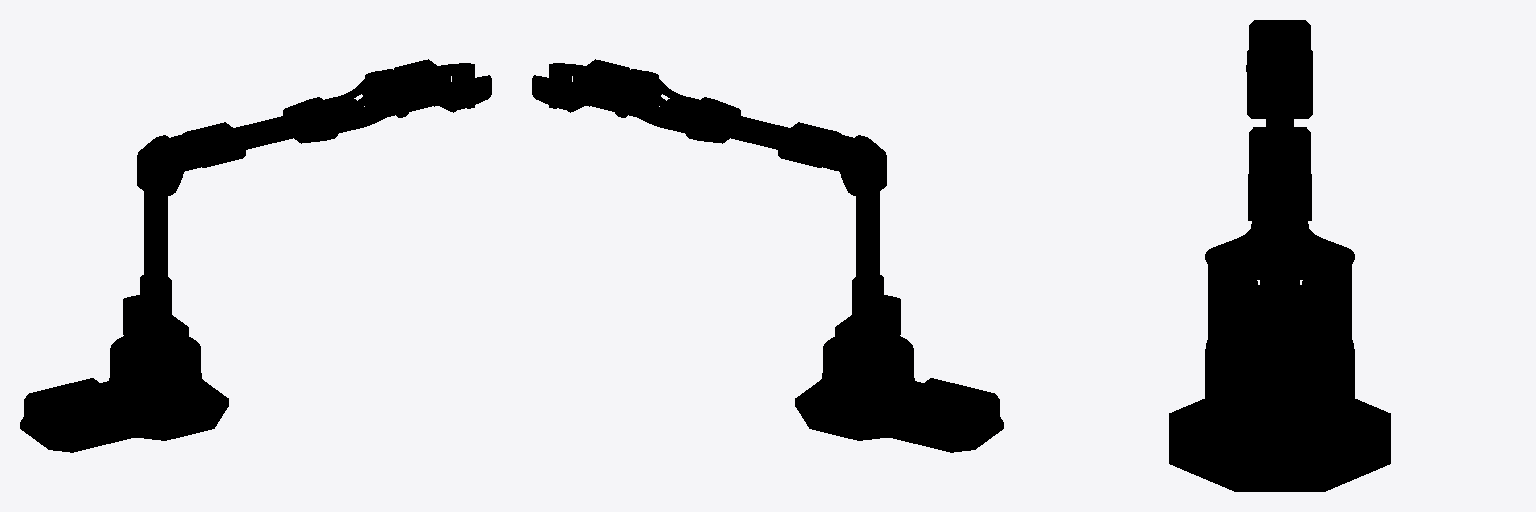
The robot description file, URDF, robot "wx200":
<?xml version="1.0" ?>
<!-- =================================================================================== -->
<!-- |    This document was autogenerated by xacro from wx200.urdf.xacro               | -->
<!-- |    EDITING THIS FILE BY HAND IS NOT RECOMMENDED                                 | -->
<!-- =================================================================================== -->
<robot name="wx200" xmlns:xacro="http://www.ros.org/wiki/xacro">
  <material name="interbotix_black">
    <color rgba="0.0 0.0 0.0 1.0"/>
    <!-- <texture filename="wx200/meshes/interbotix_black.png"/> -->
  </material>
  <link name="wx200/base_link">
    <visual>
      <origin rpy="0 0 1.5707963267948966" xyz="0 0 0"/>
      <geometry>
        <mesh filename="wx200/meshes/wx200_1_base.obj" scale="0.001 0.001 0.001"/>
      </geometry>
      <material name="interbotix_black"/>
    </visual>
    <collision>
      <origin rpy="0 0 1.5707963267948966" xyz="0 0 0"/>
      <geometry>
        <mesh filename="wx200/meshes/wx200_1_base.obj" scale="0.001 0.001 0.001"/>
      </geometry>
    </collision>
    <inertial>
      <origin rpy="0 0 1.5707963267948966" xyz="-0.0381747000 0.0006478630 0.0193458000"/>
      <mass value="0.540142"/>
      <inertia ixx="0.0021190000" ixy="-0.0000172100" ixz="0.0000006389" iyy="0.0006925000" iyz="0.0000461200" izz="0.0025280000"/>
    </inertial>
  </link>
  <joint name="waist" type="revolute">
    <axis xyz="0 0 1"/>
    <limit effort="8" lower="-3.141582653589793" upper="3.141582653589793" velocity="3.141592653589793"/>
    <origin rpy="0 0 0" xyz="0 0 0.072"/>
    <parent link="wx200/base_link"/>
    <child link="wx200/shoulder_link"/>
    <dynamics friction="0.1"/>
  </joint>
  <transmission name="trans_waist">
    <type>transmission_interface/SimpleTransmission</type>
    <joint name="waist">
      <hardwareInterface>hardware_interface/EffortJointInterface</hardwareInterface>
    </joint>
    <actuator name="waist_motor">
      <mechanicalReduction>1</mechanicalReduction>
    </actuator>
  </transmission>
  <link name="wx200/shoulder_link">
    <visual>
      <origin rpy="0 0 1.5707963267948966" xyz="0 0 -0.003"/>
      <geometry>
        <mesh filename="wx200/meshes/wx200_2_shoulder.obj" scale="0.001 0.001 0.001"/>
      </geometry>
      <material name="interbotix_black"/>
    </visual>
    <collision>
      <origin rpy="0 0 1.5707963267948966" xyz="0 0 -0.003"/>
      <geometry>
        <mesh filename="wx200/meshes/wx200_2_shoulder.obj" scale="0.001 0.001 0.001"/>
      </geometry>
    </collision>
    <inertial>
      <origin rpy="0 0 1.5707963267948966" xyz="0.0000223210 0.0000414608 0.0066287000"/>
      <mass value="0.480879"/>
      <inertia ixx="0.0003790000" ixy="0.0000000022" ixz="-0.0000003561" iyy="0.0005557000" iyz="0.0000012247" izz="0.0005889000"/>
    </inertial>
  </link>
  <joint name="shoulder" type="revolute">
    <axis xyz="0 1 0"/>
    <limit effort="18" lower="-1.8849555921538759" upper="1.9722220547535925" velocity="3.141592653589793"/>
    <origin rpy="0 0 0" xyz="0 0 0.03865"/>
    <parent link="wx200/shoulder_link"/>
    <child link="wx200/upper_arm_link"/>
    <dynamics friction="0.1"/>
  </joint>
  <transmission name="trans_shoulder">
    <type>transmission_interface/SimpleTransmission</type>
    <joint name="shoulder">
      <hardwareInterface>hardware_interface/EffortJointInterface</hardwareInterface>
    </joint>
    <actuator name="shoulder_motor">
      <mechanicalReduction>1</mechanicalReduction>
    </actuator>
  </transmission>
  <link name="wx200/upper_arm_link">
    <visual>
      <origin rpy="0 0 1.5707963267948966" xyz="0 0 0"/>
      <geometry>
        <mesh filename="wx200/meshes/wx200_3_upper_arm.obj" scale="0.001 0.001 0.001"/>
      </geometry>
      <material name="interbotix_black"/>
    </visual>
    <collision>
      <origin rpy="0 0 1.5707963267948966" xyz="0 0 0"/>
      <geometry>
        <mesh filename="wx200/meshes/wx200_3_upper_arm.obj" scale="0.001 0.001 0.001"/>
      </geometry>
    </collision>
    <inertial>
      <origin rpy="0 0 1.5707963267948966" xyz="0.0119707000 -0.0001179264 0.1394290000"/>
      <mass value="0.297781"/>
      <inertia ixx="0.0017100000" ixy="-0.0000011433" ixz="0.0000021161" iyy="0.0016310000" iyz="0.0002135000" izz="0.0001482000"/>
    </inertial>
  </link>
  <joint name="elbow" type="revolute">
    <axis xyz="0 1 0"/>
    <limit effort="13" lower="-1.8849555921538759" upper="1.6231562043547265" velocity="3.141592653589793"/>
    <origin rpy="0 0 0" xyz="0.05 0 0.2"/>
    <parent link="wx200/upper_arm_link"/>
    <child link="wx200/forearm_link"/>
    <dynamics friction="0.1"/>
  </joint>
  <transmission name="trans_elbow">
    <type>transmission_interface/SimpleTransmission</type>
    <joint name="elbow">
      <hardwareInterface>hardware_interface/EffortJointInterface</hardwareInterface>
    </joint>
    <actuator name="elbow_motor">
      <mechanicalReduction>1</mechanicalReduction>
    </actuator>
  </transmission>
  <link name="wx200/forearm_link">
    <visual>
      <origin rpy="0 0 1.5707963267948966" xyz="0 0 0"/>
      <geometry>
        <mesh filename="wx200/meshes/wx200_4_forearm.obj" scale="0.001 0.001 0.001"/>
      </geometry>
      <material name="interbotix_black"/>
    </visual>
    <collision>
      <origin rpy="0 0 1.5707963267948966" xyz="0 0 0"/>
      <geometry>
        <mesh filename="wx200/meshes/wx200_4_forearm.obj" scale="0.001 0.001 0.001"/>
      </geometry>
    </collision>
    <inertial>
      <origin rpy="0 0 1.5707963267948966" xyz="0.1211920000 -0.0001238123 0.0000000000"/>
      <mass value="0.283651"/>
      <inertia ixx="0.0011850000" ixy="-0.0000024317" ixz="0.0000000000" iyy="0.0000682900" iyz="0.0000000000" izz="0.0012060000"/>
    </inertial>
  </link>
  <joint name="wrist_angle" type="revolute">
    <axis xyz="0 1 0"/>
    <limit effort="5" lower="-1.7453292519943295" upper="2.1467549799530254" velocity="3.141592653589793"/>
    <origin rpy="0 0 0" xyz="0.2 0 0"/>
    <parent link="wx200/forearm_link"/>
    <child link="wx200/wrist_link"/>
    <dynamics friction="0.1"/>
  </joint>
  <transmission name="trans_wrist_angle">
    <type>transmission_interface/SimpleTransmission</type>
    <joint name="wrist_angle">
      <hardwareInterface>hardware_interface/EffortJointInterface</hardwareInterface>
    </joint>
    <actuator name="wrist_angle_motor">
      <mechanicalReduction>1</mechanicalReduction>
    </actuator>
  </transmission>
  <link name="wx200/wrist_link">
    <visual>
      <origin rpy="0 0 1.5707963267948966" xyz="0 0 0"/>
      <geometry>
        <mesh filename="wx200/meshes/wx200_5_wrist.obj" scale="0.001 0.001 0.001"/>
      </geometry>
      <material name="interbotix_black"/>
    </visual>
    <collision>
      <origin rpy="0 0 1.5707963267948966" xyz="0 0 0"/>
      <geometry>
        <mesh filename="wx200/meshes/wx200_5_wrist.obj" scale="0.001 0.001 0.001"/>
      </geometry>
    </collision>
    <inertial>
      <origin rpy="0 0 1.5707963267948966" xyz="0.0423600000 -0.0000106630 0.0105770000"/>
      <mass value="0.084957"/>
      <inertia ixx="0.0000308200" ixy="0.0000000191" ixz="0.0000000023" iyy="0.0000282200" iyz="0.0000025481" izz="0.0000315200"/>
    </inertial>
  </link>
  <joint name="wrist_rotate" type="revolute">
    <axis xyz="1 0 0"/>
    <limit effort="1" lower="-3.141582653589793" upper="3.141582653589793" velocity="3.141592653589793"/>
    <origin rpy="0 0 0" xyz="0.065 0 0"/>
    <parent link="wx200/wrist_link"/>
    <child link="wx200/gripper_link"/>
    <dynamics friction="0.1"/>
  </joint>
  <transmission name="trans_wrist_rotate">
    <type>transmission_interface/SimpleTransmission</type>
    <joint name="wrist_rotate">
      <hardwareInterface>hardware_interface/EffortJointInterface</hardwareInterface>
    </joint>
    <actuator name="wrist_rotate_motor">
      <mechanicalReduction>1</mechanicalReduction>
    </actuator>
  </transmission>
  <link name="wx200/gripper_link">
    <visual>
      <origin rpy="0 0 1.5707963267948966" xyz="-0.02 0 0"/>
      <geometry>
        <mesh filename="wx200/meshes/wx200_6_gripper.obj" scale="0.001 0.001 0.001"/>
      </geometry>
      <material name="interbotix_black"/>
    </visual>
    <collision>
      <origin rpy="0 0 1.5707963267948966" xyz="-0.02 0 0"/>
      <geometry>
        <mesh filename="wx200/meshes/wx200_6_gripper.obj" scale="0.001 0.001 0.001"/>
      </geometry>
    </collision>
    <inertial>
      <origin rpy="0 0 1.5707963267948966" xyz="0.0216310000 0.0000002516 0.0114100000"/>
      <mass value="0.072885"/>
      <inertia ixx="0.0000253700" ixy="0.0000000000" ixz="0.0000000000" iyy="0.0000183600" iyz="0.0000004340" izz="0.0000167400"/>
    </inertial>
  </link>
  <joint name="ee_arm" type="fixed">
    <axis xyz="1 0 0"/>
    <origin rpy="0 0 0" xyz="0.043 0 0"/>
    <parent link="wx200/gripper_link"/>
    <child link="wx200/ee_arm_link"/>
  </joint>
  <link name="wx200/ee_arm_link">
    <inertial>
      <mass value="0.001"/>
      <inertia ixx="0.001" ixy="0" ixz="0" iyy="0.001" iyz="0" izz="0.001"/>
    </inertial>
  </link>
  <joint name="gripper" type="continuous">
    <axis xyz="1 0 0"/>
    <limit effort="1" velocity="3.141592653589793"/>
    <origin rpy="0 0 0" xyz="0.0055 0 0"/>
    <parent link="wx200/ee_arm_link"/>
    <child link="wx200/gripper_prop_link"/>
    <dynamics friction="0.1"/>
  </joint>
  <transmission name="trans_gripper">
    <type>transmission_interface/SimpleTransmission</type>
    <joint name="gripper">
      <hardwareInterface>hardware_interface/EffortJointInterface</hardwareInterface>
    </joint>
    <actuator name="gripper_motor">
      <mechanicalReduction>1</mechanicalReduction>
    </actuator>
  </transmission>
  <link name="wx200/gripper_prop_link">
    <visual>
      <origin rpy="0 0 1.5707963267948966" xyz="-0.0685 0 0"/>
      <geometry>
        <mesh filename="wx200/meshes/wx200_7_gripper_prop.obj" scale="0.001 0.001 0.001"/>
      </geometry>
      <material name="interbotix_black"/>
    </visual>
    <collision>
      <origin rpy="0 0 1.5707963267948966" xyz="-0.0685 0 0"/>
      <geometry>
        <mesh filename="wx200/meshes/wx200_7_gripper_prop.obj" scale="0.001 0.001 0.001"/>
      </geometry>
    </collision>
    <inertial>
      <origin rpy="0 0 1.5707963267948966" xyz="0.0008460000 -0.0000016817 0.0000420000"/>
      <mass value="0.00434"/>
      <inertia ixx="0.0000005923" ixy="0.0000000000" ixz="0.0000003195" iyy="0.0000011156" iyz="-0.0000000004" izz="0.0000005743"/>
    </inertial>
  </link>
  <!-- If the AR tag is being used, then add the AR tag mount -->
  <!-- If the gripper bar is being used, then also add the gripper bar -->
  <joint name="gripper_bar" type="fixed">
    <axis xyz="1 0 0"/>
    <origin rpy="0 0 0" xyz="0 0 0"/>
    <parent link="wx200/ee_arm_link"/>
    <child link="wx200/gripper_bar_link"/>
  </joint>
  <link name="wx200/gripper_bar_link">
    <visual>
      <origin rpy="0 0 1.5707963267948966" xyz="-0.063 0 0"/>
      <geometry>
        <mesh filename="wx200/meshes/wx200_8_gripper_bar.obj" scale="0.001 0.001 0.001"/>
      </geometry>
      <material name="interbotix_black"/>
    </visual>
    <collision>
      <origin rpy="0 0 1.5707963267948966" xyz="-0.063 0 0"/>
      <geometry>
        <mesh filename="wx200/meshes/wx200_8_gripper_bar.obj" scale="0.001 0.001 0.001"/>
      </geometry>
    </collision>
    <inertial>
      <origin rpy="0 0 1.5707963267948966" xyz="0.0096870000 0.0000008177 0.0049620000"/>
      <mass value="0.034199"/>
      <inertia ixx="0.0000074125" ixy="-0.0000000008" ixz="-0.0000000006" iyy="0.0000284300" iyz="-0.0000013889" izz="0.0000286000"/>
    </inertial>
  </link>
  <joint name="ee_bar" type="fixed">
    <axis xyz="1 0 0"/>
    <origin rpy="0 0 0" xyz="0.023 0 0"/>
    <parent link="wx200/gripper_bar_link"/>
    <child link="wx200/fingers_link"/>
  </joint>
  <link name="wx200/fingers_link">
    <inertial>
      <mass value="0.001"/>
      <inertia ixx="0.001" ixy="0" ixz="0" iyy="0.001" iyz="0" izz="0.001"/>
    </inertial>
  </link>
  <!-- If the gripper fingers are being used, add those as well -->
  <joint name="left_finger" type="prismatic">
    <axis xyz="0 1 0"/>
    <limit effort="5" lower="0.015" upper="0.037" velocity="1"/>
    <origin rpy="0 0 0" xyz="0 0 0"/>
    <parent link="wx200/fingers_link"/>
    <child link="wx200/left_finger_link"/>
    <dynamics friction="0.1"/>
  </joint>
  <transmission name="trans_left_finger">
    <type>transmission_interface/SimpleTransmission</type>
    <joint name="left_finger">
      <hardwareInterface>hardware_interface/EffortJointInterface</hardwareInterface>
    </joint>
    <actuator name="left_finger_motor">
      <mechanicalReduction>1</mechanicalReduction>
    </actuator>
  </transmission>
  <link name="wx200/left_finger_link">
    <visual>
      <origin rpy="3.141592653589793 3.141592653589793 0" xyz="0 0.005 0"/>
      <geometry>
        <mesh filename="wx200/meshes/wx200_9_gripper_finger.obj" scale="0.001 0.001 0.001"/>
      </geometry>
      <material name="interbotix_black"/>
    </visual>
    <collision>
      <origin rpy="3.141592653589793 3.141592653589793 0" xyz="0 0.005 0"/>
      <geometry>
        <mesh filename="wx200/meshes/wx200_9_gripper_finger.obj" scale="0.001 0.001 0.001"/>
      </geometry>
    </collision>
    <inertial>
      <origin rpy="3.141592653589793 3.141592653589793 1.5707963267948966" xyz="0.0138160000 0.0000000000 0.0000000000"/>
      <mass value="0.016246"/>
      <inertia ixx="0.0000047310" ixy="-0.0000004560" ixz="0.0000000000" iyy="0.0000015506" iyz="0.0000000000" izz="0.0000037467"/>
    </inertial>
  </link>
  <joint name="right_finger" type="prismatic">
    <axis xyz="0 1 0"/>
    <limit effort="5" lower="-0.037" upper="-0.015" velocity="1"/>
    <origin rpy="0 0 0" xyz="0 0 0"/>
    <parent link="wx200/fingers_link"/>
    <child link="wx200/right_finger_link"/>
    <dynamics friction="0.1"/>
    <mimic joint="left_finger" multiplier="-1" offset="0"/>
  </joint>
  <transmission name="trans_right_finger">
    <type>transmission_interface/SimpleTransmission</type>
    <joint name="right_finger">
      <hardwareInterface>hardware_interface/EffortJointInterface</hardwareInterface>
    </joint>
    <actuator name="right_finger_motor">
      <mechanicalReduction>1</mechanicalReduction>
    </actuator>
  </transmission>
  <link name="wx200/right_finger_link">
    <visual>
      <origin rpy="0 3.141592653589793 0" xyz="0 -0.005 0"/>
      <geometry>
        <mesh filename="wx200/meshes/wx200_9_gripper_finger.obj" scale="0.001 0.001 0.001"/>
      </geometry>
      <material name="interbotix_black"/>
    </visual>
    <collision>
      <origin rpy="0 3.141592653589793 0" xyz="0 -0.005 0"/>
      <geometry>
        <mesh filename="wx200/meshes/wx200_9_gripper_finger.obj" scale="0.001 0.001 0.001"/>
      </geometry>
    </collision>
    <inertial>
      <origin rpy="0 3.141592653589793 1.5707963267948966" xyz="0.0138160000 0.0000000000  0.0000000000"/>
      <mass value="0.016246"/>
      <inertia ixx="0.0000047310" ixy="0.0000004560" ixz="0.0000000000" iyy="0.0000015506" iyz="0.0000000000" izz="0.0000037467"/>
    </inertial>
  </link>
  <joint name="ee_gripper" type="fixed">
    <axis xyz="1 0 0"/>
    <origin rpy="0 0 0" xyz="0.027575 0 0"/>
    <parent link="wx200/fingers_link"/>
    <child link="wx200/ee_gripper_link"/>
  </joint>
  <link name="wx200/ee_gripper_link">
    <inertial>
      <mass value="0.001"/>
      <inertia ixx="0.001" ixy="0" ixz="0" iyy="0.001" iyz="0" izz="0.001"/>
    </inertial>
  </link>
</robot>

--- What the picture shows (computed from the rendered views, not written in the file) ---
3 views of the same robot in one strip: view 1: azimuth 30°, elevation 25°; view 2: azimuth 150°, elevation 25°; view 3: azimuth 270°, elevation 25° (orthographic).
Robot: wx200 — 13 links, 12 joints (5 revolute, 1 continuous, 2 prismatic, 4 fixed); root link wx200/base_link; default pose: all joints at 0 but 2 set to mid-range because 0 is outside their limits (left_finger = 0.026, right_finger = -0.026).
Links seen in each view (by area): view 1: wx200/base_link, wx200/upper_arm_link, wx200/forearm_link, wx200/shoulder_link, wx200/wrist_link, wx200/gripper_link, wx200/right_finger_link, wx200/gripper_bar_link, wx200/left_finger_link; view 2: wx200/base_link, wx200/upper_arm_link, wx200/forearm_link, wx200/shoulder_link, wx200/wrist_link, wx200/gripper_link, wx200/left_finger_link, wx200/gripper_bar_link, wx200/right_finger_link; view 3: wx200/base_link, wx200/shoulder_link, wx200/forearm_link, wx200/gripper_bar_link, wx200/upper_arm_link, wx200/wrist_link, wx200/left_finger_link, wx200/right_finger_link, wx200/gripper_link, wx200/gripper_prop_link.
Boxes of the visible links, x1,y1,x2,y2 form: wx200/base_link: (20, 354, 228, 452); wx200/upper_arm_link: (137, 132, 208, 333); wx200/forearm_link: (182, 94, 363, 167); wx200/shoulder_link: (110, 295, 200, 370); wx200/wrist_link: (341, 69, 406, 128); wx200/gripper_link: (394, 60, 437, 116); wx200/right_finger_link: (449, 75, 491, 109); wx200/gripper_bar_link: (427, 59, 474, 112); wx200/left_finger_link: (438, 63, 474, 82); wx200/base_link: (795, 354, 1003, 452); wx200/upper_arm_link: (815, 132, 886, 333); wx200/forearm_link: (660, 94, 841, 167); wx200/shoulder_link: (823, 295, 913, 370); wx200/wrist_link: (617, 69, 682, 128); wx200/gripper_link: (586, 60, 629, 116); wx200/left_finger_link: (532, 75, 574, 109); wx200/gripper_bar_link: (549, 59, 596, 112); wx200/right_finger_link: (549, 63, 585, 82); wx200/base_link: (1169, 315, 1390, 491); wx200/shoulder_link: (1206, 280, 1353, 380); wx200/forearm_link: (1247, 50, 1312, 173); wx200/gripper_bar_link: (1205, 210, 1354, 279); wx200/upper_arm_link: (1246, 20, 1310, 319); wx200/wrist_link: (1248, 162, 1311, 225); wx200/left_finger_link: (1302, 247, 1324, 312); wx200/right_finger_link: (1235, 247, 1257, 312); wx200/gripper_link: (1251, 184, 1308, 227); wx200/gripper_prop_link: (1265, 234, 1294, 284).
Bounding box of the posed robot: 0.5811 × 0.1531 × 0.3459 m (x, y, z).
10 mesh visuals loaded from 9 distinct referenced files (9 OBJ).
